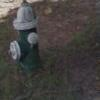a fire hydrant: (8, 3, 40, 71)
